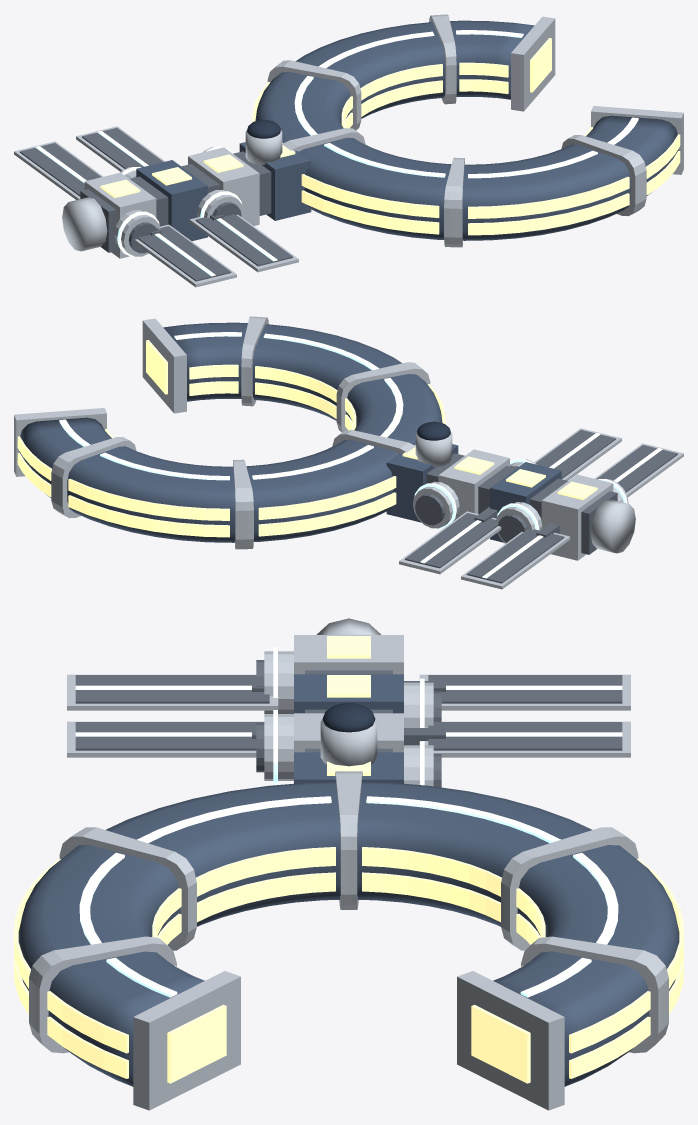
The model's file is station-lunar-data-center.glb.
3 renders of one model, top to bottom at view 1: azimuth 30°, elevation 25°; view 2: azimuth 150°, elevation 25°; view 3: azimuth 270°, elevation 25°, orthographic. The views are drawn at different scales.
Parts seen in each view (by area): view 1: concourse, spine, berth_4, berth_2; view 2: concourse, spine, berth_1, berth_3; view 3: concourse, spine, berth_2, berth_4, berth_3, berth_1.
Part boxes in pixels (bbox=[...]): concourse: bbox=[252, 14, 683, 247]; spine: bbox=[14, 119, 311, 287]; berth_4: bbox=[114, 210, 160, 256]; berth_2: bbox=[197, 190, 243, 218]; concourse: bbox=[14, 316, 445, 549]; spine: bbox=[386, 421, 683, 589]; berth_1: bbox=[413, 481, 459, 528]; berth_3: bbox=[496, 502, 542, 543]; concourse: bbox=[14, 771, 683, 1110]; spine: bbox=[67, 618, 630, 783]; berth_2: bbox=[256, 710, 293, 784]; berth_4: bbox=[256, 647, 293, 713]; berth_3: bbox=[404, 678, 441, 727]; berth_1: bbox=[403, 741, 441, 787].
Size of the model in its own units: 1 by 0.1544 by 0.6866.
